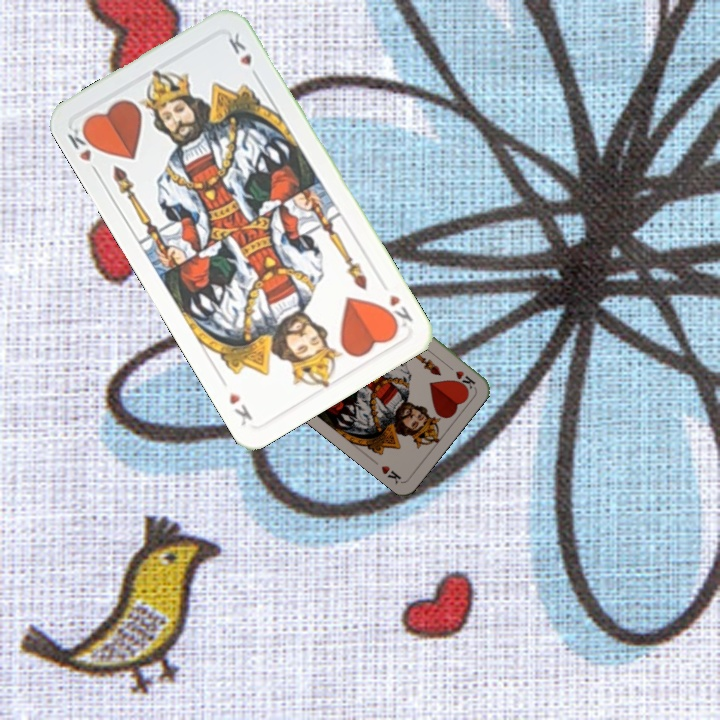HK: (63, 121, 102, 165), (379, 290, 416, 333), (442, 360, 478, 392)
